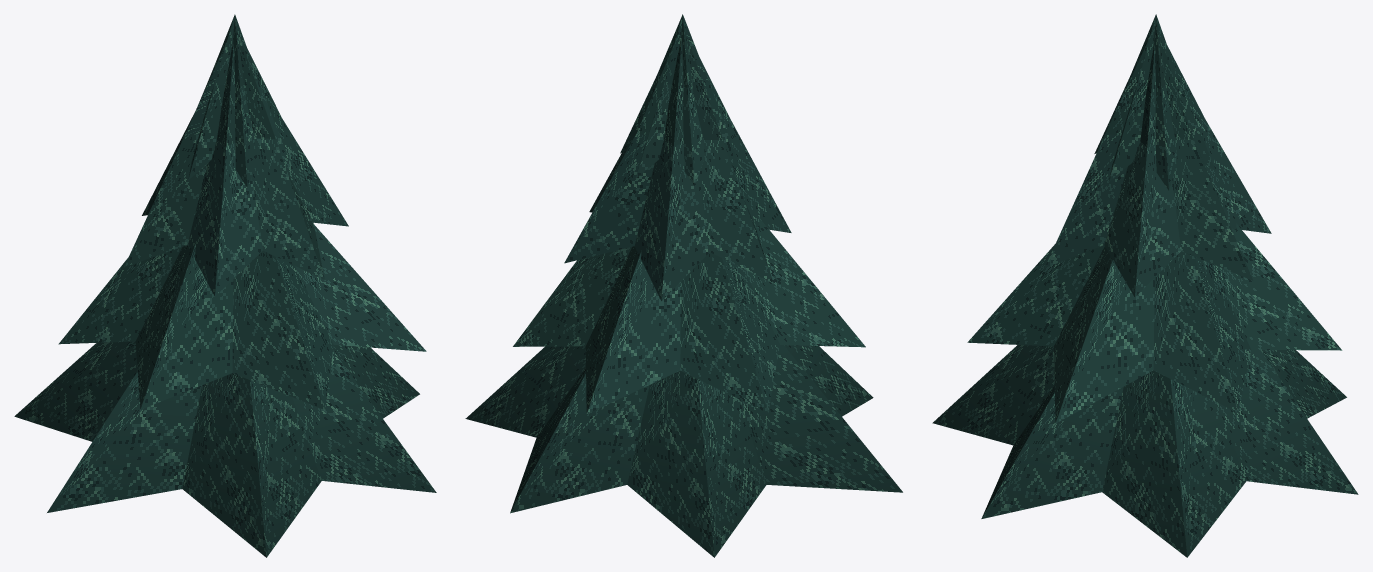
File: tree_pine_b.glb
3 views of the same model, side by side, from view 1: azimuth 30°, elevation 25°; view 2: azimuth 150°, elevation 25°; view 3: azimuth 270°, elevation 25° (orthographic).
Visible parts, largest first — view 1: tree_pine_b; view 2: tree_pine_b; view 3: tree_pine_b.
Boxes of the visible parts, left/top/right/bottom form: tree_pine_b: left=14, top=14, right=436, bottom=557; tree_pine_b: left=465, top=14, right=902, bottom=557; tree_pine_b: left=932, top=14, right=1358, bottom=557.
Bounding box in the file's own units: 4.52 × 5.2 × 4.08.
2 materials, 2 textured.
